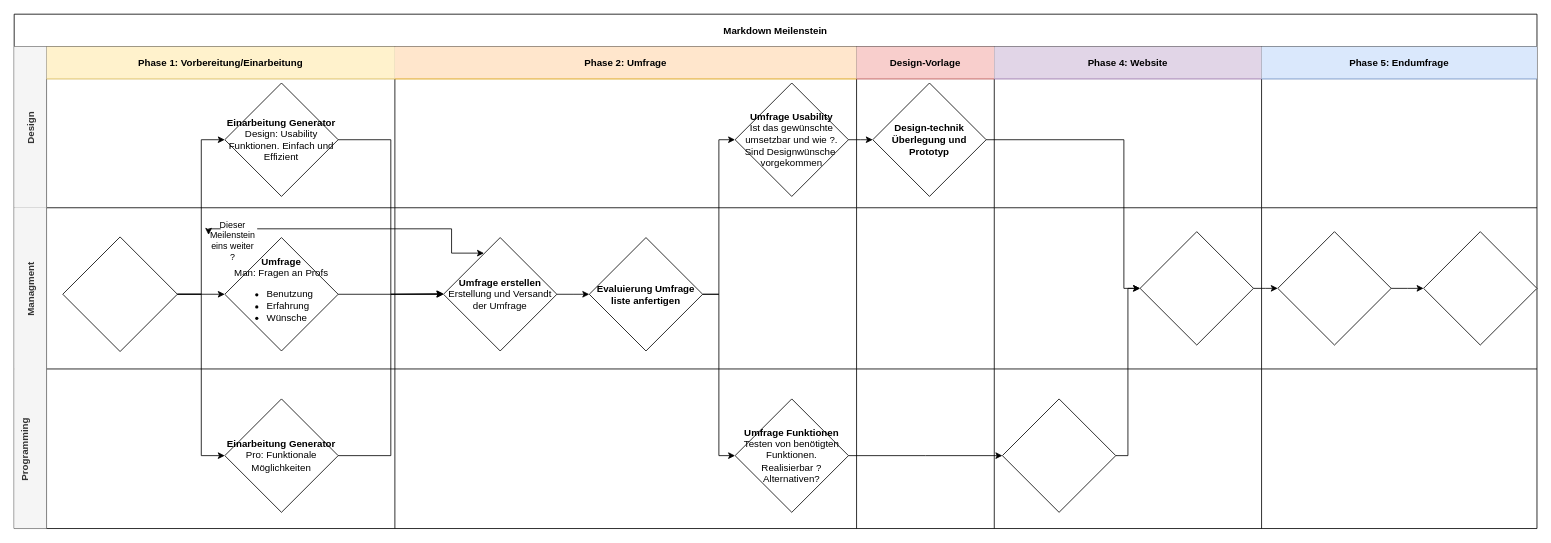
This 1551x543 diagram has some shape labels left out. The shapes that lost their labels are listed below. From the top down, each one's centre as x and y in pixels, then its label:
At point 119,294: "Auswertung verschiedener Generatoren. -> Auswahl des Besten".
At point 1196,288: "Tutorial Aufsetzen und Benutzung Generatoren/Funktionen".
At point 1334,288: "Umfrage zur Website leicht bedienbar weitere Wünsche Kritik".
At point 1480,288: "Evaluierung/Umsetzung des Feedbacks".
At point 1059,455: "Website erstellen: Vorlage mit allen Funktionen zum Testen".
